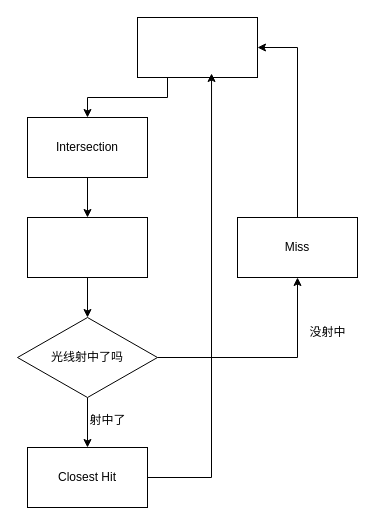
Some shapes in this 375 by 525 pixel diagram are drawn without their labels. The shapes that lost their labels are listed below. From the top down, each one's centre as x and y in pixels, then its label:
At point (197, 47): "Ray Generation".
At point (87, 247): "Any Hit".
